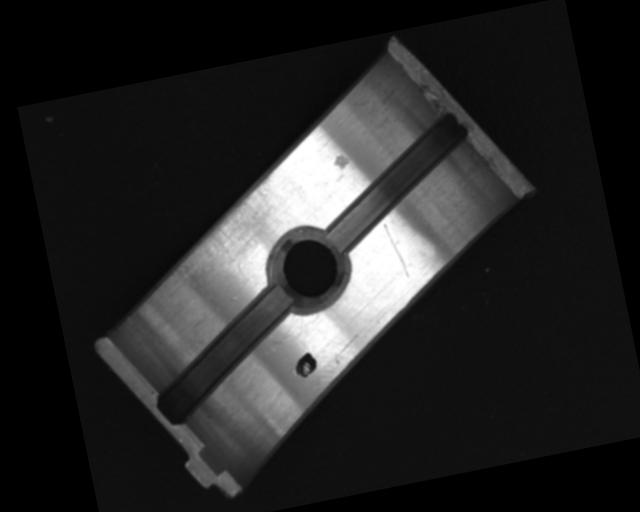blot: (292, 349, 320, 380)
bruise: (331, 151, 352, 172)
gap: (308, 109, 486, 256), (139, 282, 313, 426)
hole: (259, 219, 359, 320)
nick: (383, 220, 412, 282)
scratch: (148, 171, 292, 290)
